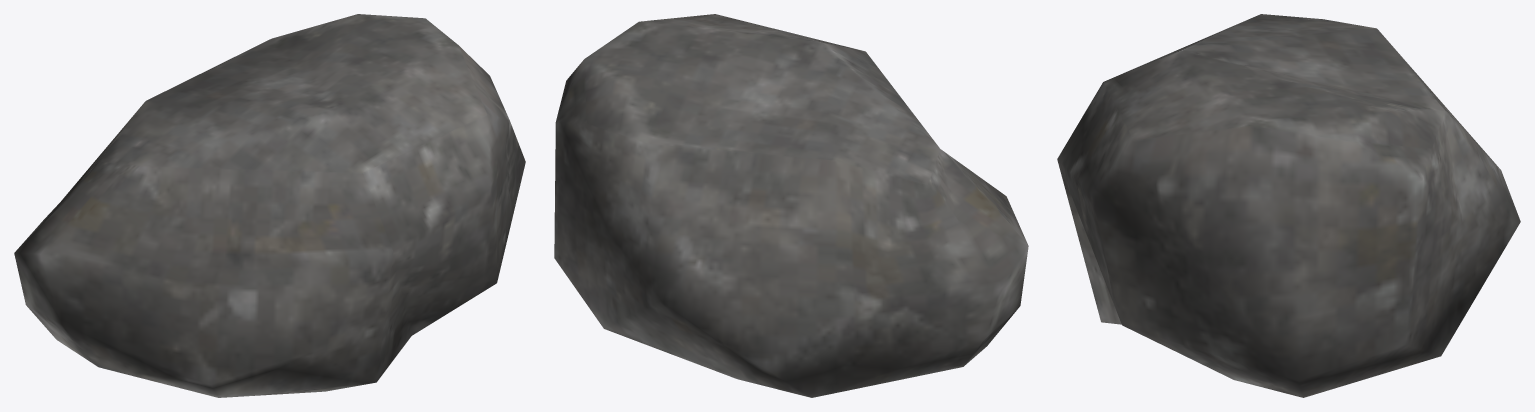
File: objects_un_a_w23rock01_05.gltf
3 views of the same model, side by side, from view 1: azimuth 30°, elevation 25°; view 2: azimuth 150°, elevation 25°; view 3: azimuth 270°, elevation 25° (orthographic). The views are drawn at different scales.
Parts seen in each view (by area): view 1: um_objects_un_a_w23rock01_05_model_lod0Shape:objects_un_a_w2; view 2: um_objects_un_a_w23rock01_05_model_lod0Shape:objects_un_a_w2; view 3: um_objects_un_a_w23rock01_05_model_lod0Shape:objects_un_a_w2.
Boxes of the visible parts, left/top/right/bottom form: um_objects_un_a_w23rock01_05_model_lod0Shape:objects_un_a_w2: left=14, top=14, right=525, bottom=397; um_objects_un_a_w23rock01_05_model_lod0Shape:objects_un_a_w2: left=554, top=14, right=1028, bottom=397; um_objects_un_a_w23rock01_05_model_lod0Shape:objects_un_a_w2: left=1057, top=14, right=1520, bottom=397.
Size of what is drawn, in the model's own units: 1.18 by 0.6451 by 0.9292.
Materials: 2 (1 with a texture image).
